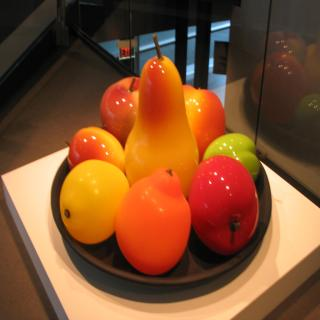tomato: (187, 154, 259, 258)
